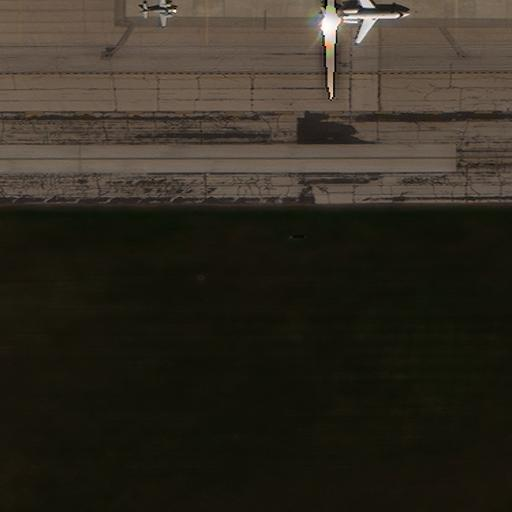Medium Civil Transport: (322, 0, 410, 43)
Small Civil Transport: (141, 0, 176, 26)
